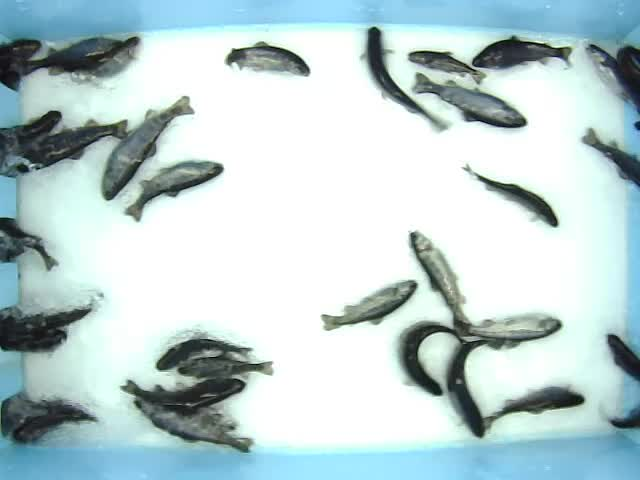fish: (99, 95, 198, 202), (355, 26, 453, 133), (6, 116, 130, 179), (131, 395, 255, 454), (410, 71, 529, 131), (407, 228, 474, 333), (458, 162, 561, 228), (122, 159, 225, 224), (445, 337, 503, 439), (319, 278, 419, 333), (479, 384, 588, 433), (398, 321, 468, 397), (451, 313, 564, 350), (117, 377, 248, 407), (469, 35, 577, 70), (155, 337, 255, 372), (223, 40, 311, 78), (406, 48, 488, 86), (177, 356, 275, 380)
